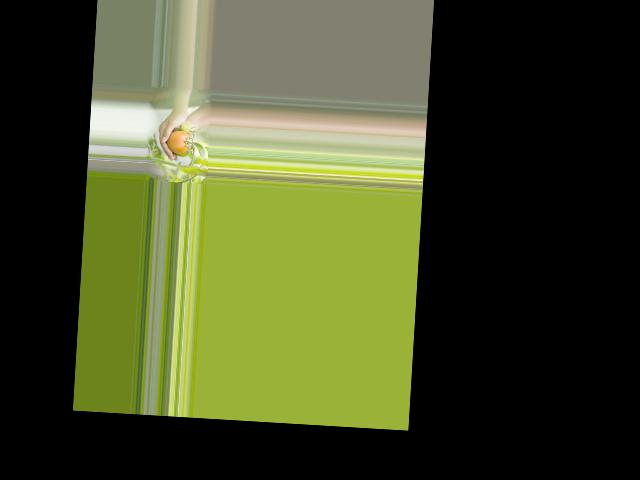tomato: (167, 129, 191, 153)
